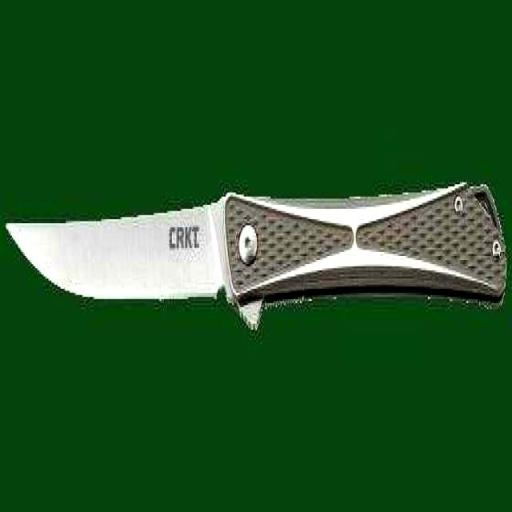knife: (0, 149, 512, 328)
